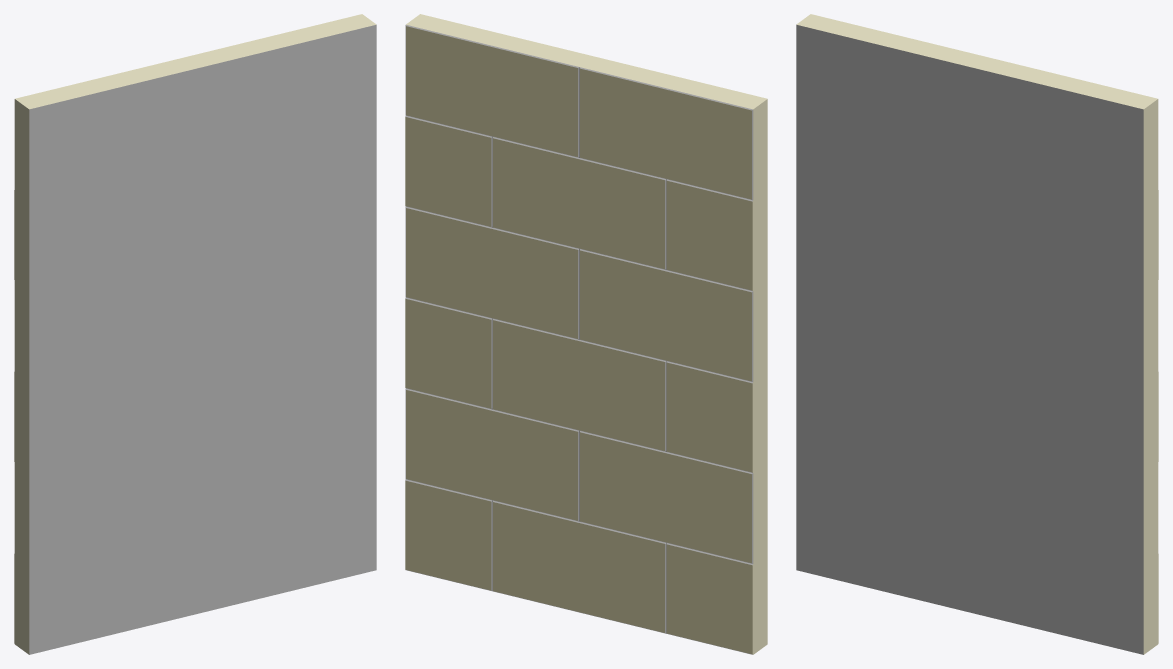
File: ExteriorWall_Plain_Str_ExportPrep.gltf
The picture shows the model from 3 angles, left to right: view 1: azimuth 30°, elevation 25°; view 2: azimuth 150°, elevation 25°; view 3: azimuth 330°, elevation 25°; orthographic projection.
Parts seen in each view (by area): view 1: ExteriorWall_Plain_Str; view 2: ExteriorWall_Plain_Str; view 3: ExteriorWall_Plain_Str.
Part boxes in pixels (left/top/right/bottom): ExteriorWall_Plain_Str: left=14, top=14, right=376, bottom=654; ExteriorWall_Plain_Str: left=405, top=14, right=767, bottom=654; ExteriorWall_Plain_Str: left=796, top=14, right=1158, bottom=654.
Size of the model in its own units: 2 by 3 by 0.15.
